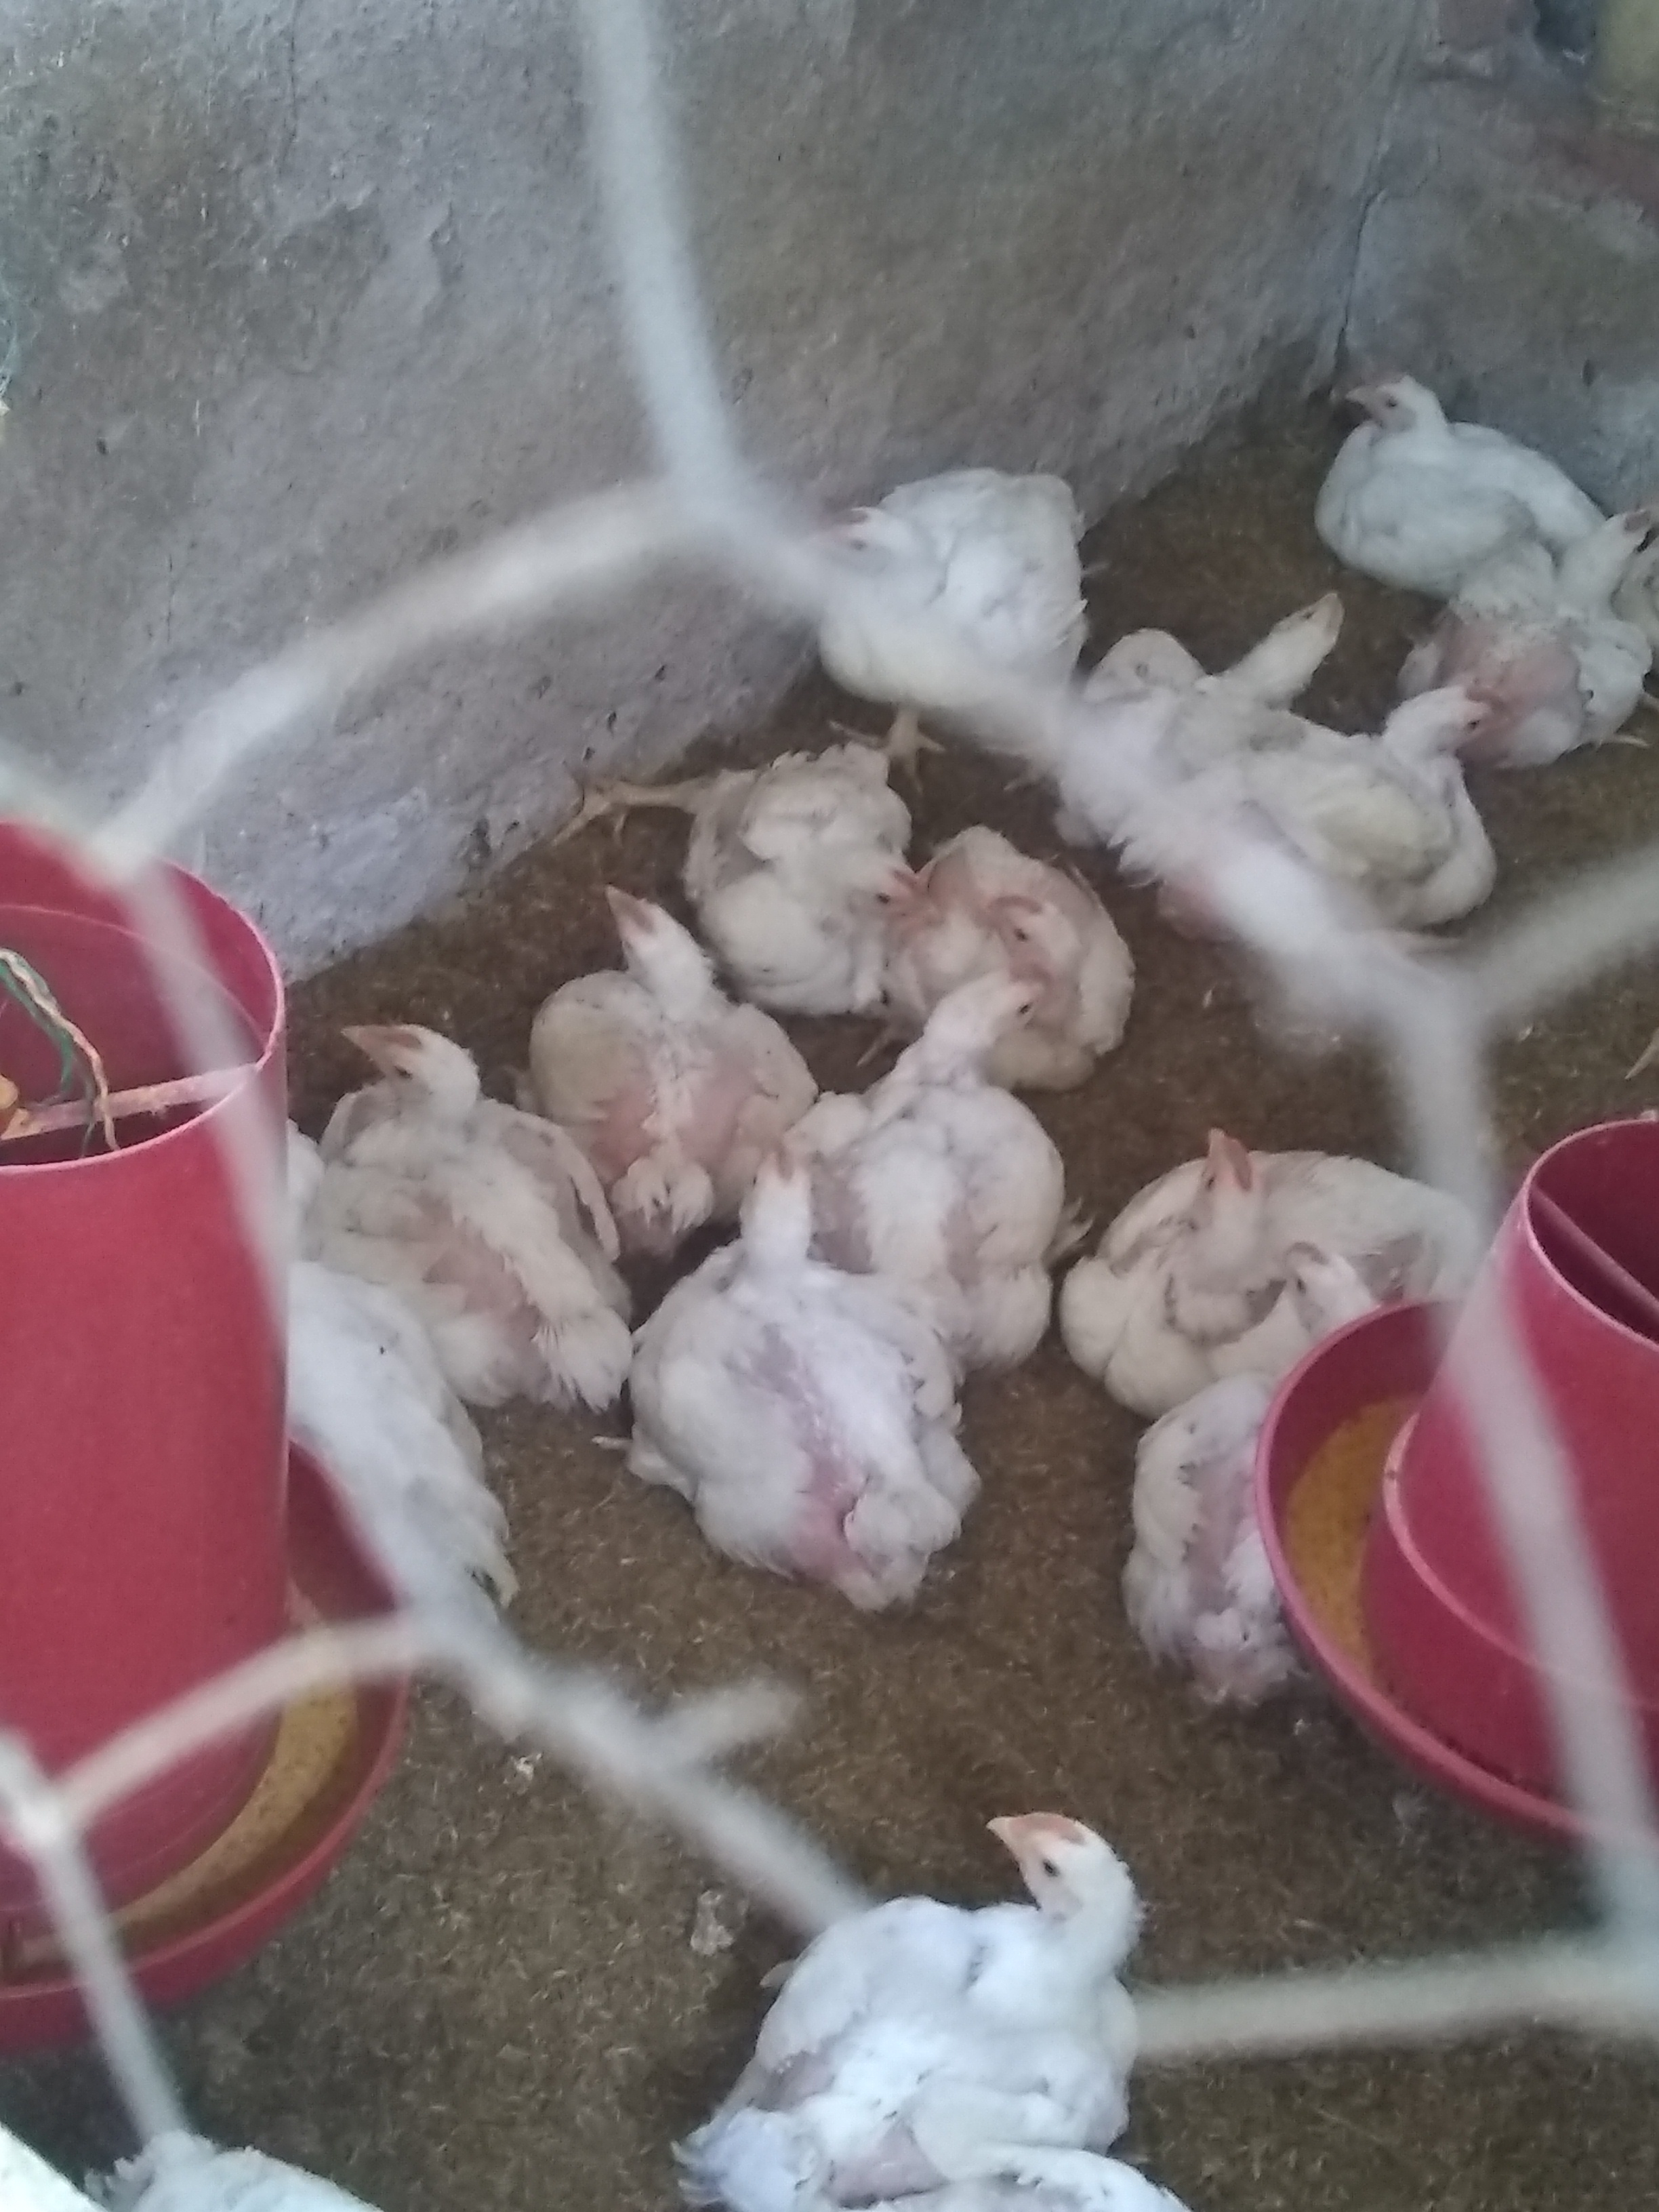Pollos: (676, 1811, 1171, 2200), (634, 1143, 971, 1564), (310, 1019, 624, 1390), (568, 745, 946, 1000), (824, 420, 1105, 716), (1079, 1127, 1419, 1367), (1136, 1303, 1330, 1716), (552, 885, 824, 1162), (843, 977, 1073, 1303), (1398, 475, 1654, 752), (1263, 681, 1504, 941), (910, 826, 1127, 1099), (1058, 587, 1370, 777), (1319, 366, 1577, 566), (1256, 1219, 1415, 1372)
